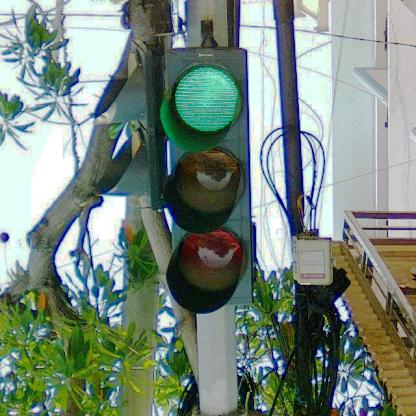Traffic Light -Green-: (159, 46, 255, 309)
